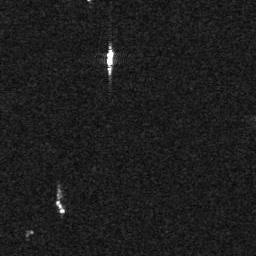ship: (105, 48, 116, 75)
